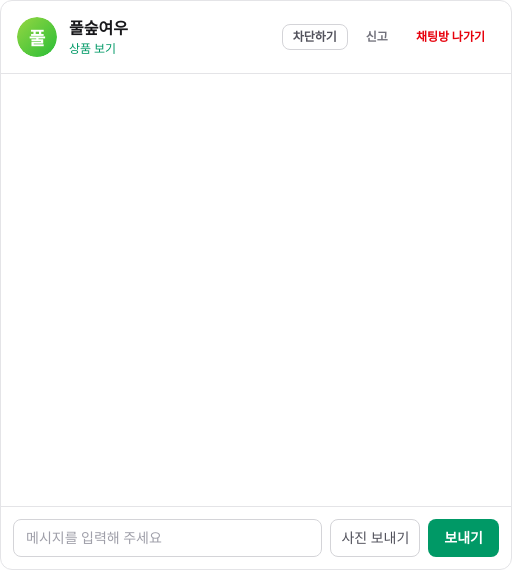
Test: ChatRoom › sends a text message: POSTs {kind:'text', text} and appends the returned message
The width and height of the screenshot is (529, 587).
Type "안녕하세요 구매하고싶어요" into the field with placeholder "메시지를 입력해 주세요" at (168, 538), box top-left (13, 519), bottom-right (322, 557)
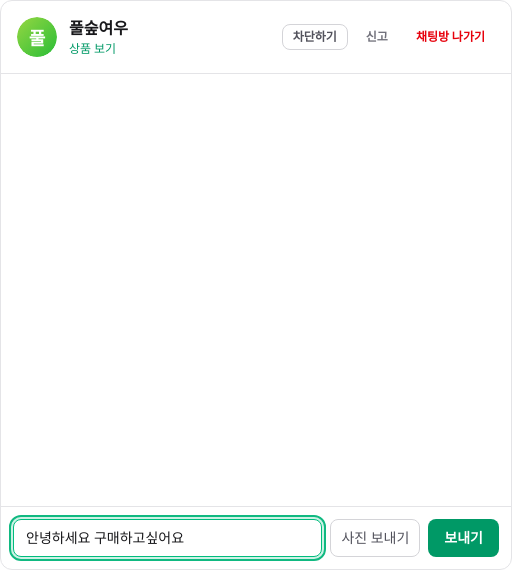
Click the button "보내기" at (464, 538), box top-left (428, 519), bottom-right (499, 557)
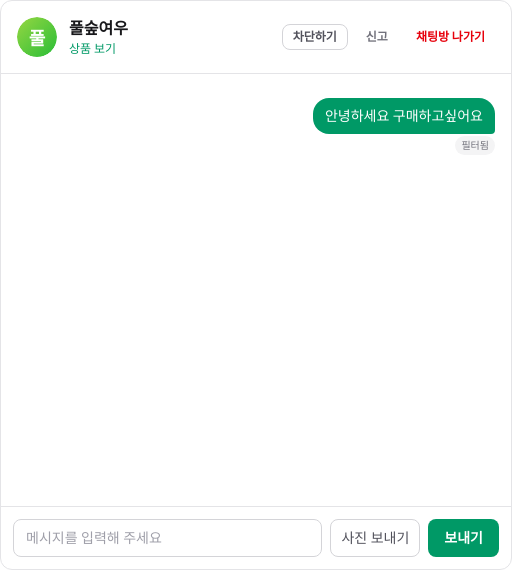
Now the text "안녕하세요 구매하고싶어요" is shown, box top-left (325, 106), bottom-right (483, 126)
